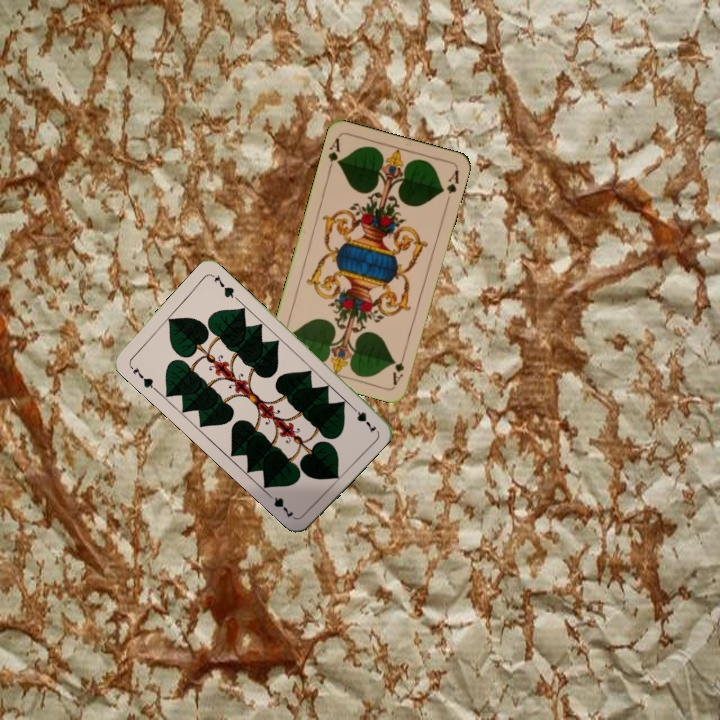G7: (346, 401, 379, 435), (126, 361, 159, 393)
GA: (388, 348, 409, 388), (324, 133, 343, 174)
